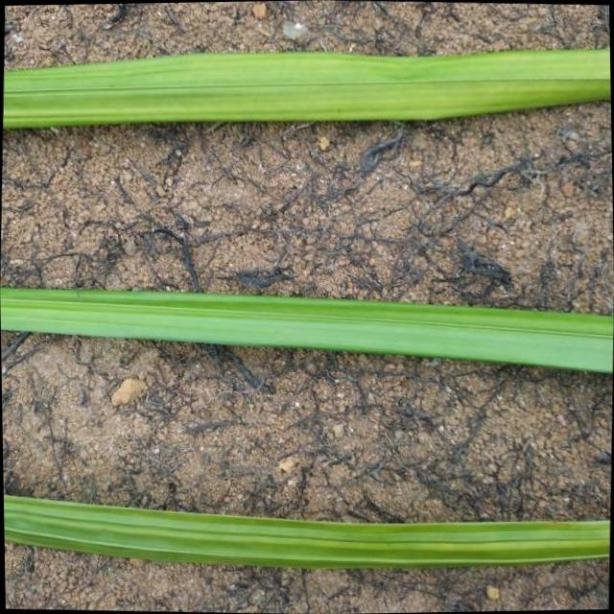nitrogen: (1, 278, 614, 375), (1, 483, 614, 567), (1, 45, 614, 128)
